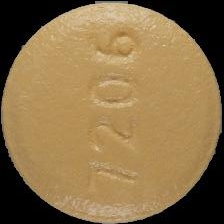0179-0014: (0, 0, 224, 224)
